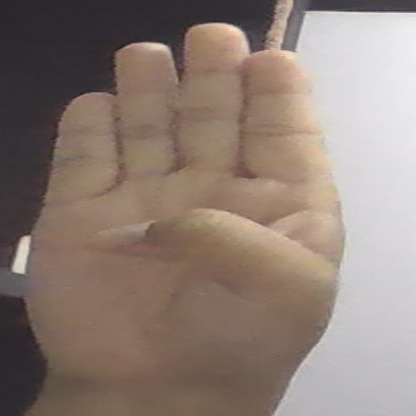B: (23, 24, 344, 401)
